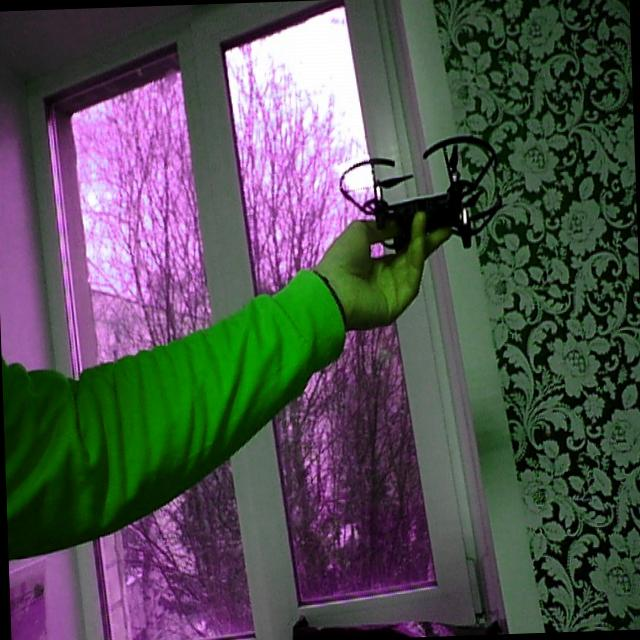drone: (337, 126, 511, 259)
